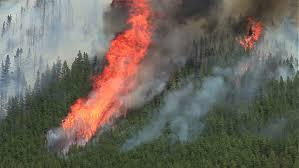fire: (61, 0, 154, 141), (238, 16, 264, 47)
smoke: (48, 0, 299, 152), (0, 1, 112, 114)
